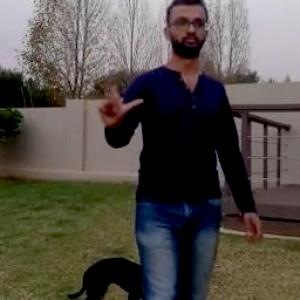land_hand: (90, 66, 142, 126)
